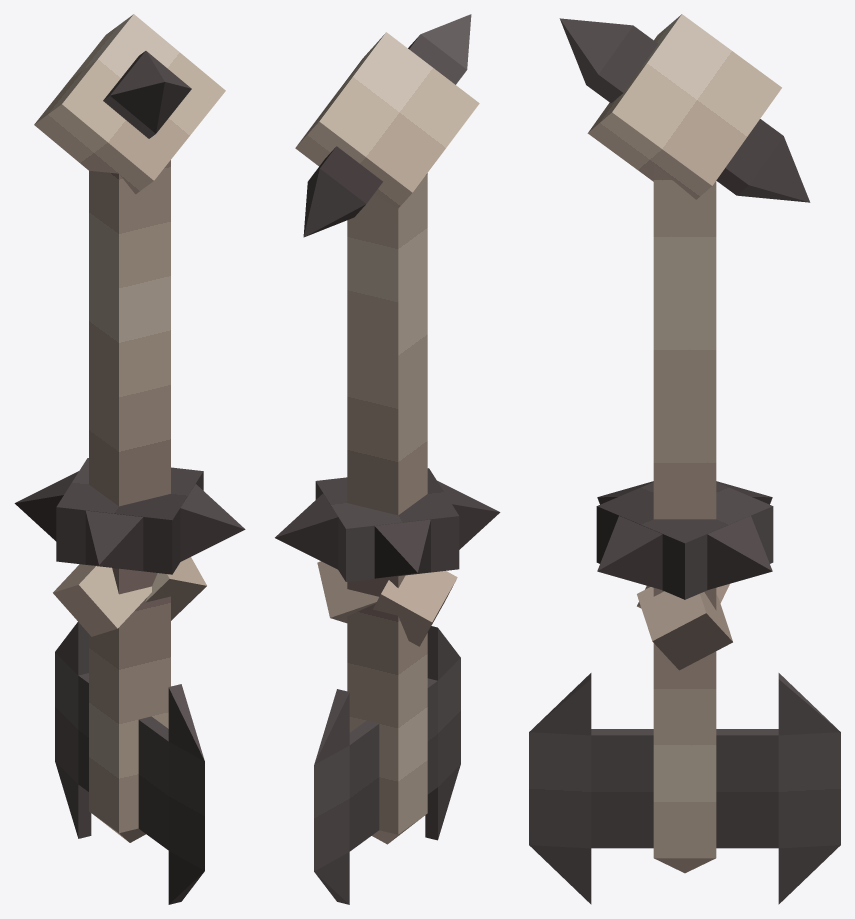
The model's file is arm_axe_l.obj.
The picture shows the model from 3 angles, left to right: view 1: azimuth 30°, elevation 25°; view 2: azimuth 150°, elevation 25°; view 3: azimuth 270°, elevation 25°; orthographic projection. The views are drawn at different scales.
Parts seen in each view (by area): view 1: ARM_LEFT_BONE_AXE_Cube.415; view 2: ARM_LEFT_BONE_AXE_Cube.415; view 3: ARM_LEFT_BONE_AXE_Cube.415.
Boxes of the visible parts, x1,y1,x2,y2 form: ARM_LEFT_BONE_AXE_Cube.415: (14,14,245,904); ARM_LEFT_BONE_AXE_Cube.415: (275,14,500,904); ARM_LEFT_BONE_AXE_Cube.415: (529,14,840,904).
Bounding box in the file's own units: 0.1951 × 0.9832 × 0.3125.
